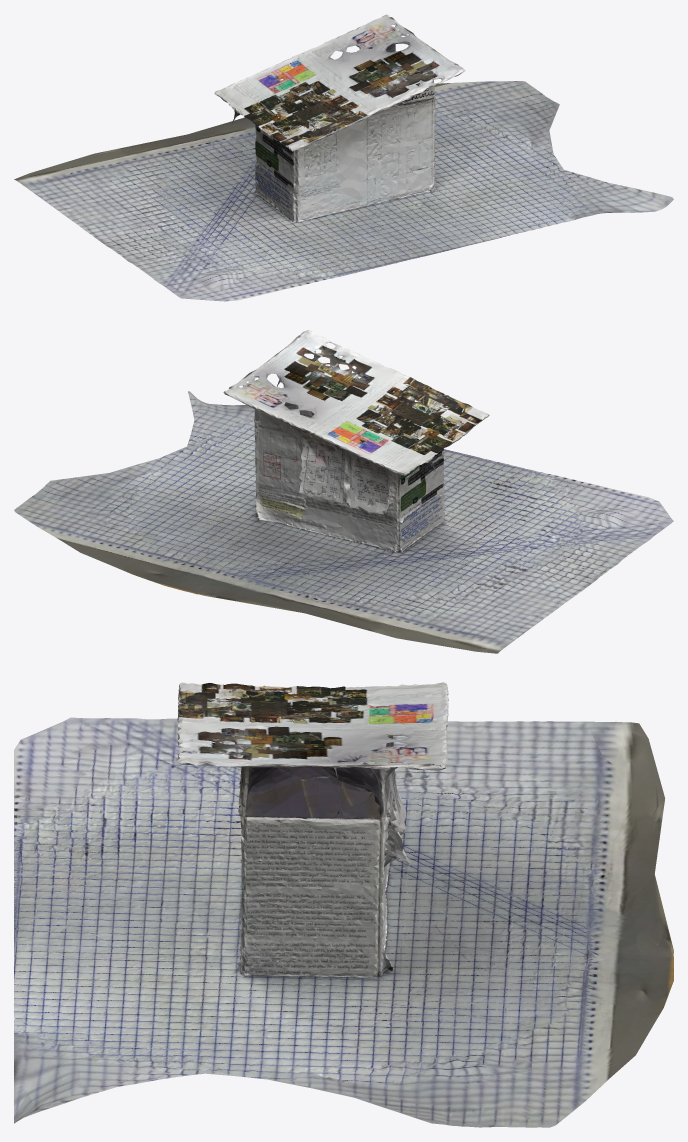
Rendered from Clare Huckleberry.glb.
3 renders of one model, top to bottom at view 1: azimuth 30°, elevation 25°; view 2: azimuth 150°, elevation 25°; view 3: azimuth 270°, elevation 25°, orthographic. The views are drawn at different scales.
Bounding box in the file's own units: 1.53 × 0.4245 × 1.06.
1 material, 1 textured.
